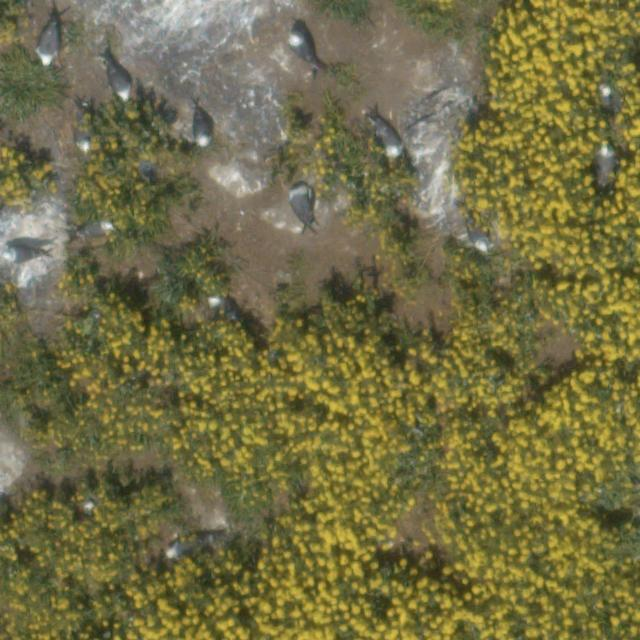umineko: (287, 181, 317, 233), (40, 29, 60, 64), (379, 125, 400, 154), (596, 145, 612, 181), (112, 69, 131, 99), (290, 35, 310, 62), (166, 538, 192, 558), (468, 228, 489, 251), (82, 220, 110, 237), (211, 299, 234, 318), (5, 246, 35, 260), (196, 116, 210, 145), (78, 125, 91, 149)
